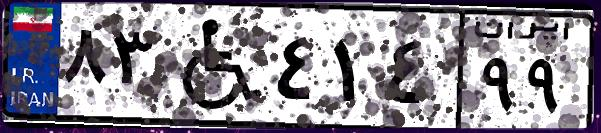1: (330, 28, 385, 110)
3: (110, 28, 158, 98)
4: (270, 28, 330, 110), (385, 28, 445, 110)
8: (57, 26, 110, 100)
9: (475, 38, 525, 113), (525, 38, 570, 115)
ژ (معلولین و جانبازان): (158, 12, 270, 120)
